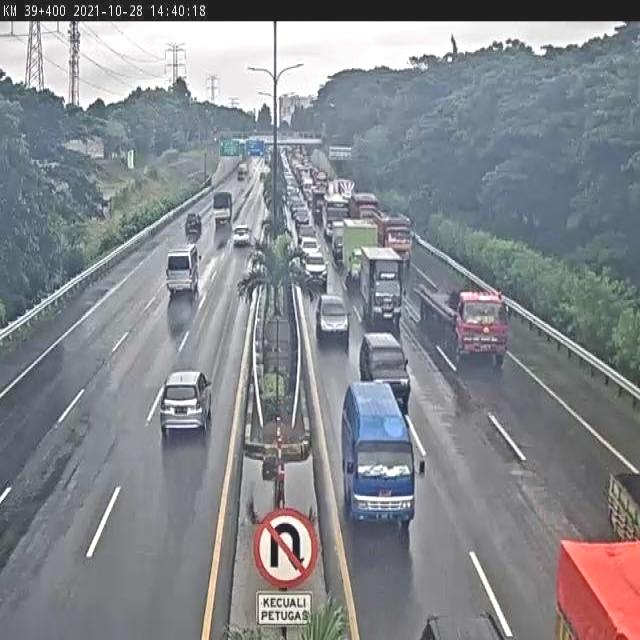Bus: (322, 195, 350, 240)
Car: (360, 331, 412, 409), (162, 370, 212, 437), (316, 293, 352, 343), (301, 253, 329, 287), (232, 223, 252, 248), (298, 236, 320, 256), (184, 211, 202, 232), (294, 207, 310, 225), (297, 225, 315, 238)
Truck: (554, 528, 639, 640), (413, 274, 512, 367), (359, 244, 408, 330), (374, 211, 416, 270), (342, 216, 378, 283), (349, 192, 384, 222), (329, 218, 347, 263), (212, 191, 234, 224), (330, 175, 356, 199), (313, 191, 327, 220)
Van: (341, 380, 426, 532), (166, 243, 202, 295)
